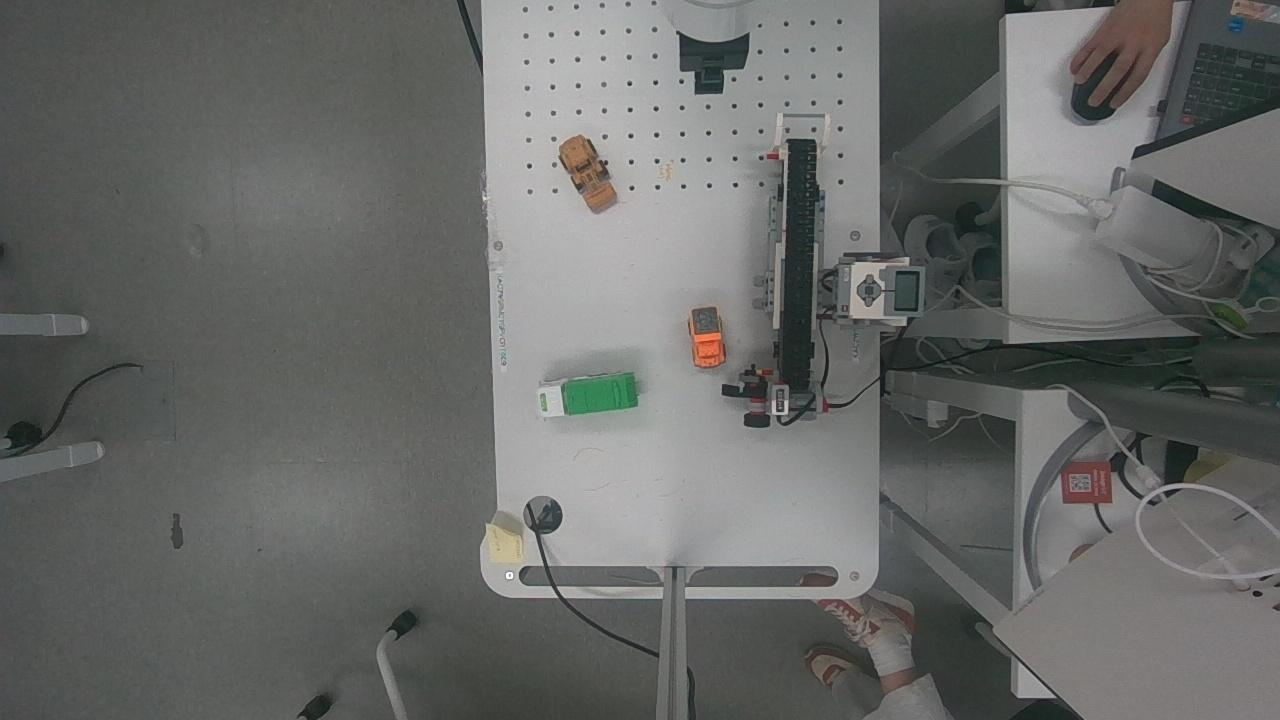green_car: (535, 362, 641, 426)
orange_car: (682, 303, 726, 368)
yellow_car: (553, 132, 621, 216)
